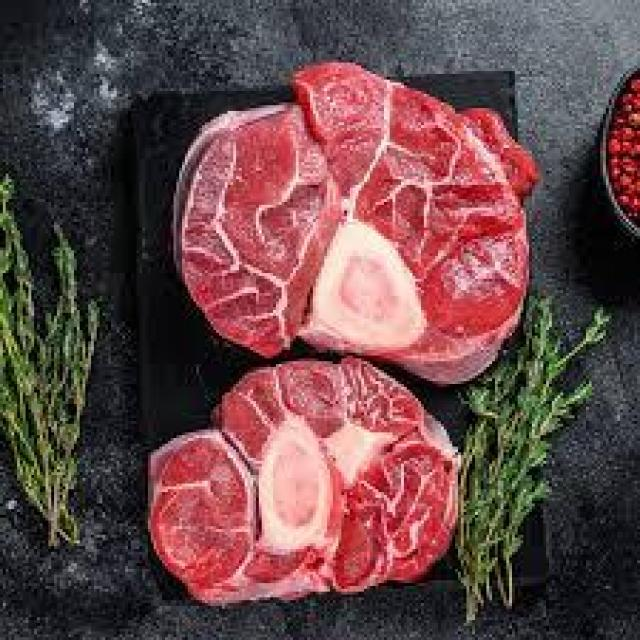beef: (159, 75, 541, 359)
